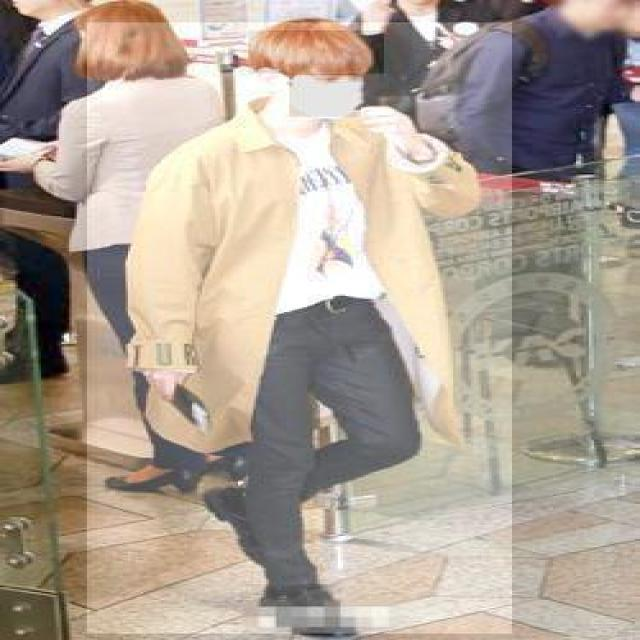boots: (95, 455, 205, 497)
